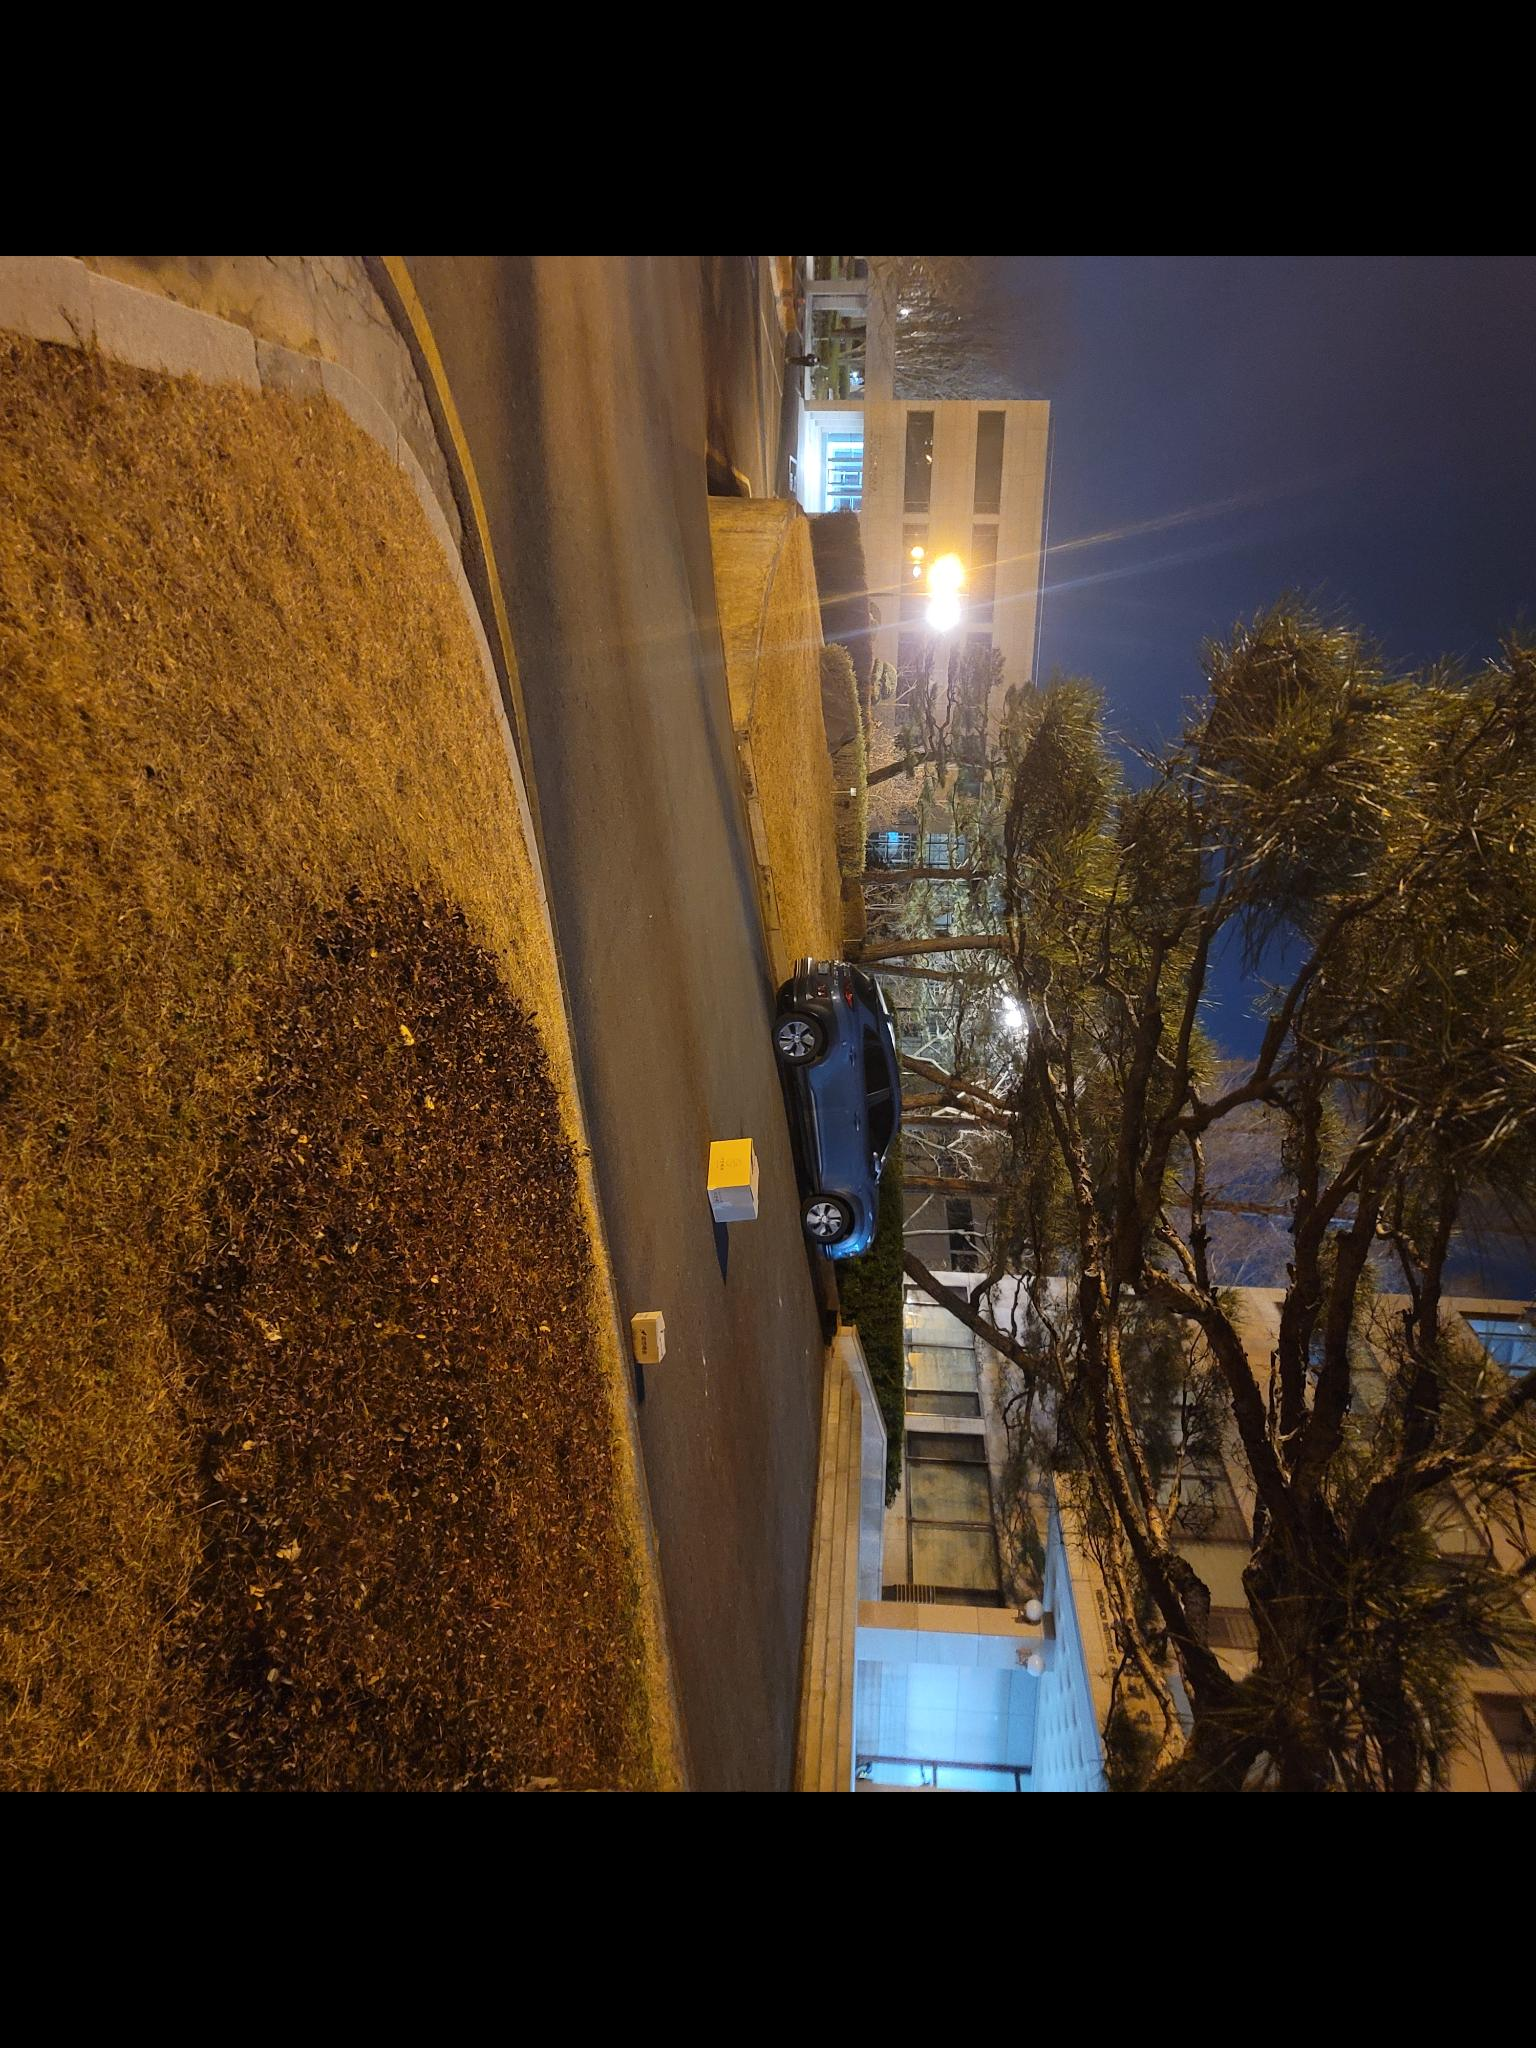Box: (697, 1135, 768, 1229), (626, 1293, 679, 1366)
